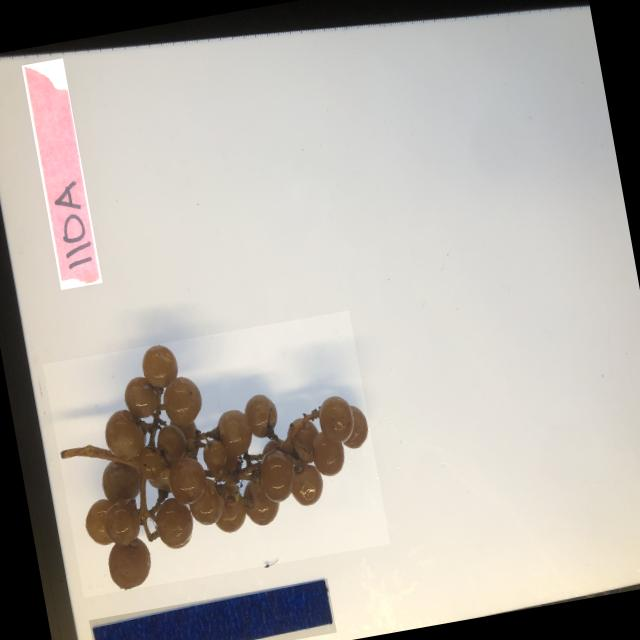grape_cluster: (42, 309, 390, 596)
index: (21, 56, 102, 288)
measure_label: (88, 577, 336, 640)
